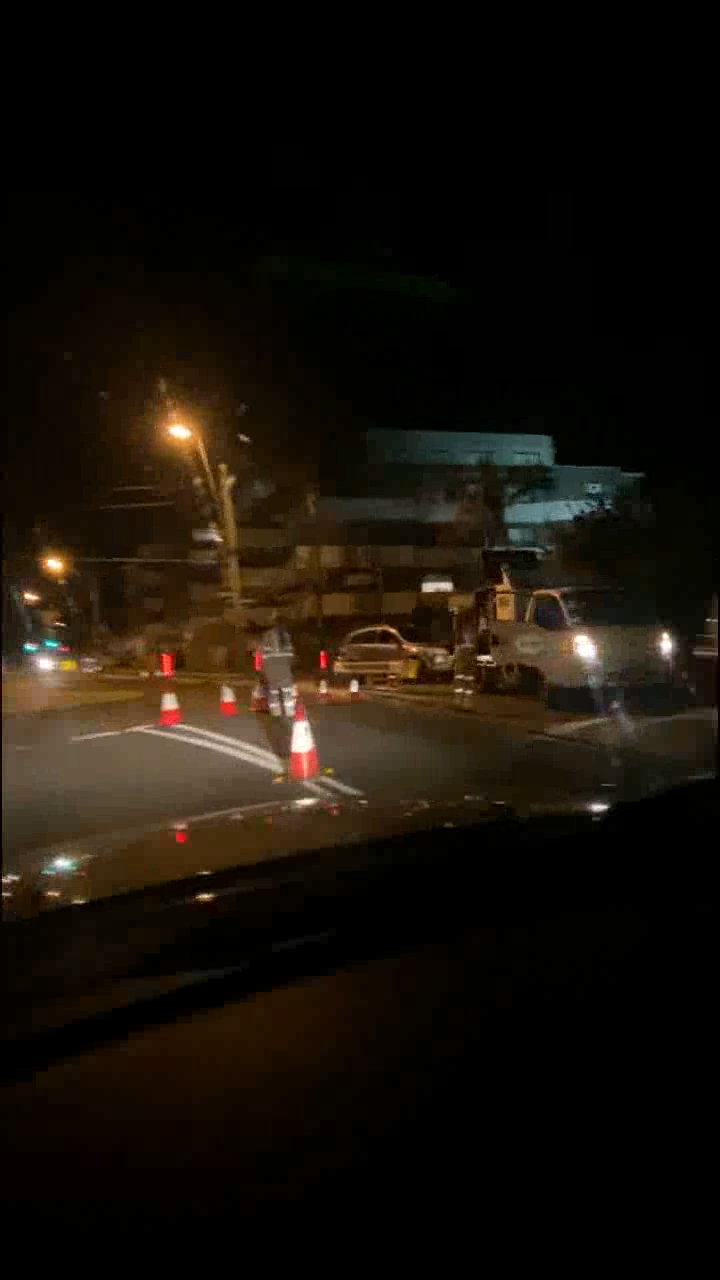person: (260, 613, 312, 725)
road cone: (290, 707, 311, 790), (153, 683, 183, 728)
